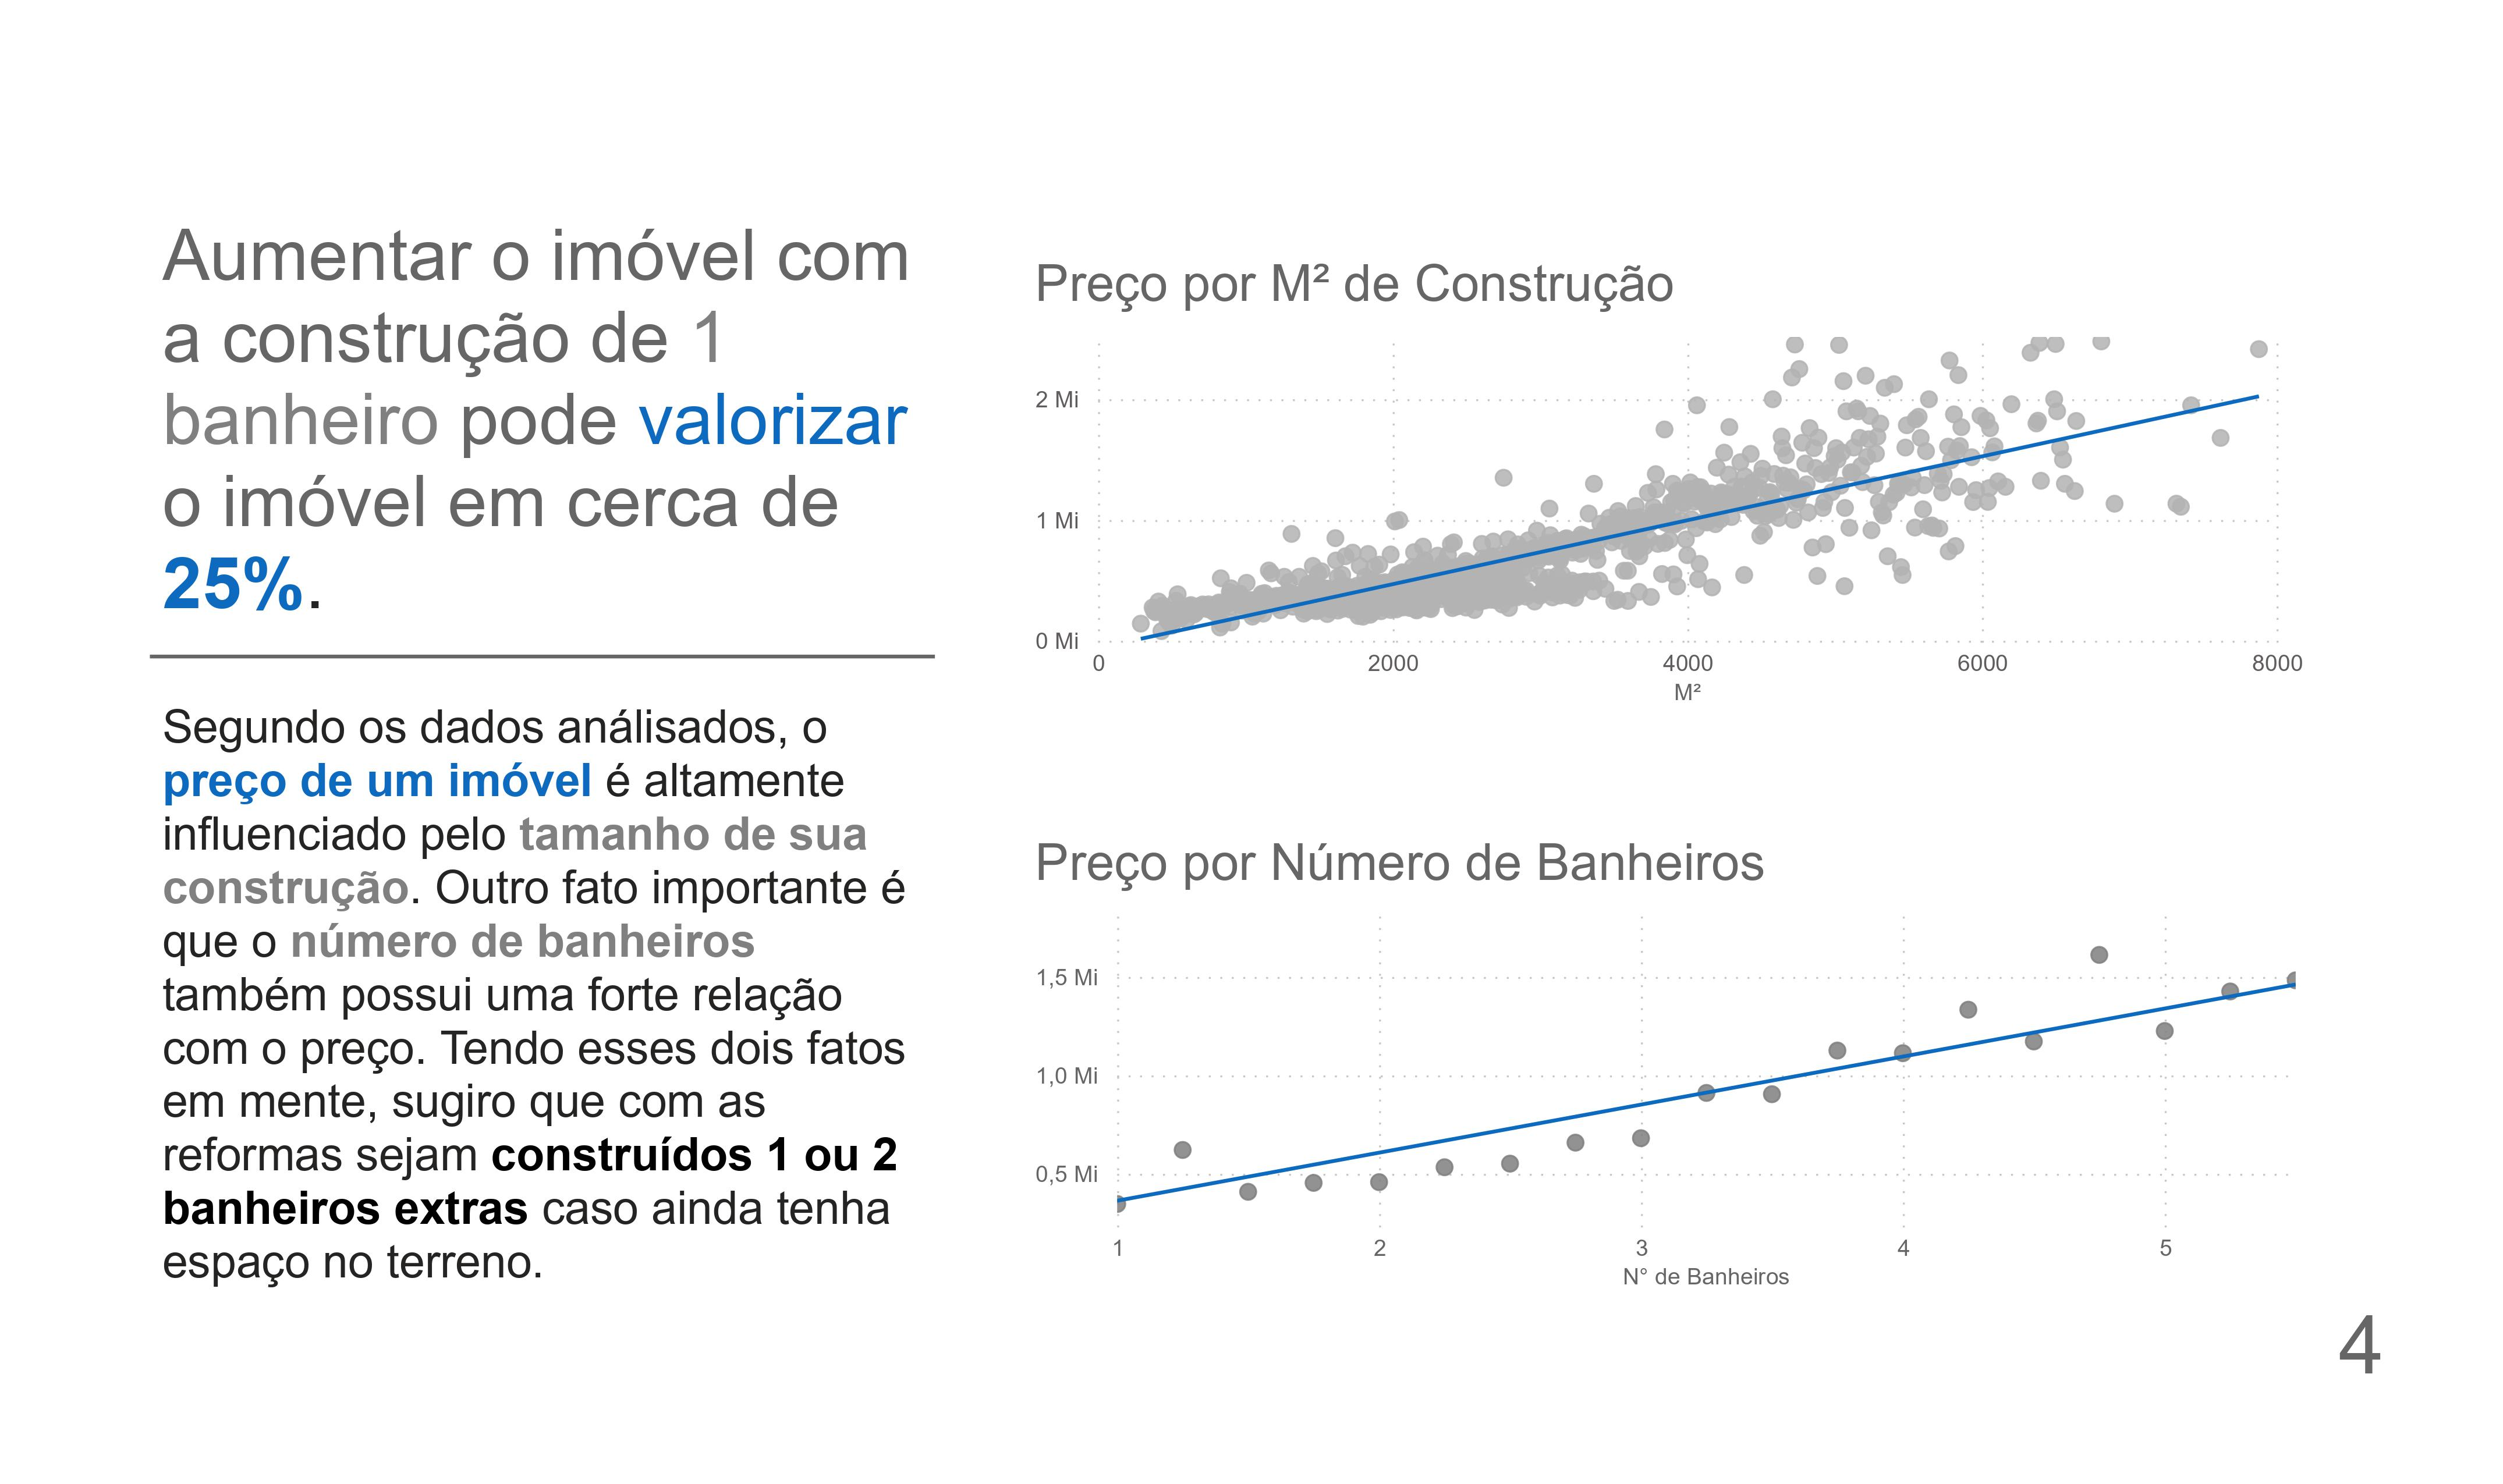

The page's visual inventory and layout, read from the dashboard file:
{"tool":"powerbi","page":{"name":"Página 4","canvas":[1280,720],"ordinal":4},"visuals":[{"type":"scatterChart","title":"Preço por Número de Banheiros","fields":{"X":["kc_house_data (2).bathrooms"],"Y":["Avg(kc_house_data (2).price)"]},"box":[521.7,408.1,674,244.3],"z":0},{"type":"scatterChart","title":"Preço por M² de Construção","fields":{"X":["kc_house_data (2).sqft_living"],"Y":["Avg(kc_house_data (2).price)"]},"box":[521.7,104.9,674,241.4],"z":1000},{"type":"textbox","box":[64.7,333.4,409.6,330.5],"z":2000},{"type":"textbox","box":[64.7,79,411,242.9],"z":3000},{"type":"shape","box":[63.2,303.2,411,24.4],"z":4000},{"type":"textbox","box":[1204.3,646.7,63.2,58.9],"z":4001}]}

Visuals, with their boxes on the page's 1280x720 design canvas (x1, y1, x2, y2). These are canvas units, not pixel positions in the 2503x1484 screenshot, which may show the page scaled, cropped or inside an application window:
"Preço por Número de Banheiros" scatterChart: (522, 408, 1196, 652)
"Preço por M² de Construção" scatterChart: (522, 105, 1196, 346)
textbox: (65, 333, 474, 664)
textbox: (65, 79, 476, 322)
shape: (63, 303, 474, 328)
textbox: (1204, 647, 1268, 706)
